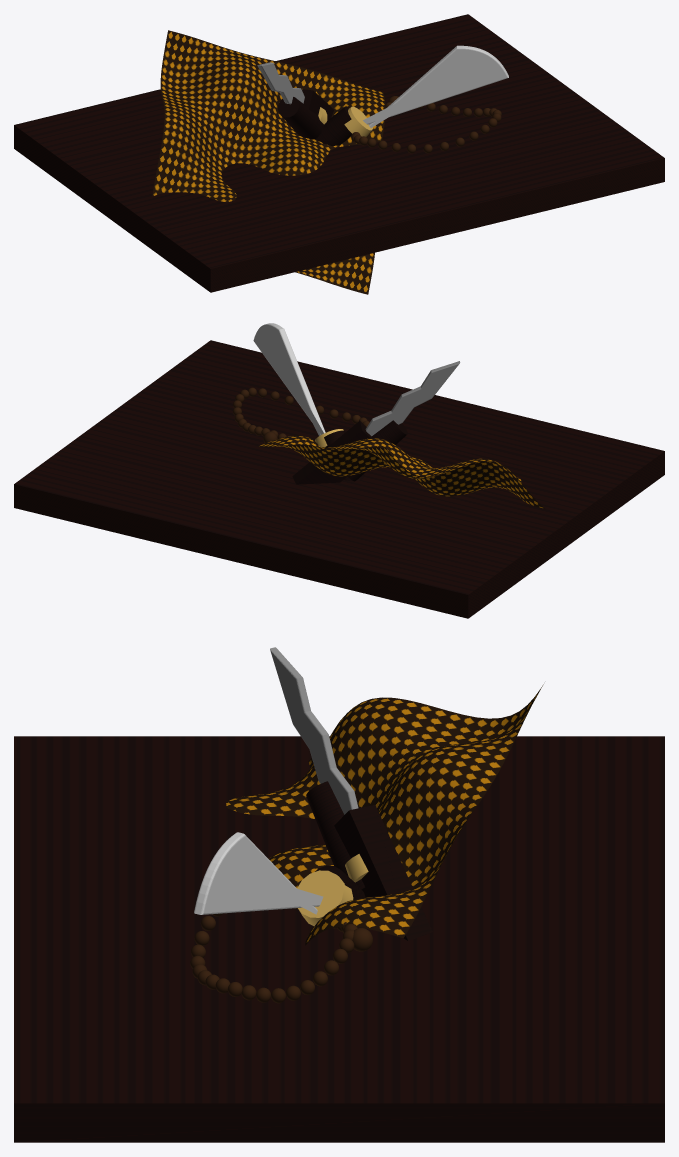
File: 13.Banten_1888_Keris_Golok_Artifacts.glb
3 views of the same model, one above another, from view 1: azimuth 30°, elevation 25°; view 2: azimuth 150°, elevation 25°; view 3: azimuth 270°, elevation 25° (orthographic). The views are drawn at different scales.
Visible parts, largest first — view 1: Banten_1888_Artifacts, Banten_Cloth, Golok_Banten, Traditional_Keris, Wooden_Prayer_Beads; view 2: Banten_1888_Artifacts, Banten_Cloth, Traditional_Keris, Golok_Banten, Wooden_Prayer_Beads; view 3: Banten_1888_Artifacts, Banten_Cloth, Traditional_Keris, Golok_Banten, Wooden_Prayer_Beads.
Part boxes in pixels (bbox=[...]): Banten_1888_Artifacts: bbox=[14, 14, 664, 292]; Banten_Cloth: bbox=[152, 30, 385, 294]; Golok_Banten: bbox=[315, 45, 508, 145]; Traditional_Keris: bbox=[257, 62, 333, 139]; Wooden_Prayer_Beads: bbox=[351, 96, 501, 153]; Banten_1888_Artifacts: bbox=[14, 340, 664, 618]; Banten_Cloth: bbox=[257, 435, 544, 508]; Traditional_Keris: bbox=[292, 361, 460, 484]; Golok_Banten: bbox=[253, 323, 364, 481]; Wooden_Prayer_Beads: bbox=[233, 387, 369, 443]; Banten_1888_Artifacts: bbox=[14, 736, 664, 1142]; Banten_Cloth: bbox=[226, 684, 543, 945]; Traditional_Keris: bbox=[270, 647, 432, 940]; Golok_Banten: bbox=[194, 832, 365, 926]; Wooden_Prayer_Beads: bbox=[190, 908, 372, 1003].
Bounding box in the file's own units: 16 × 6.69 × 12.
Materials: 7 (3 with a texture image).
